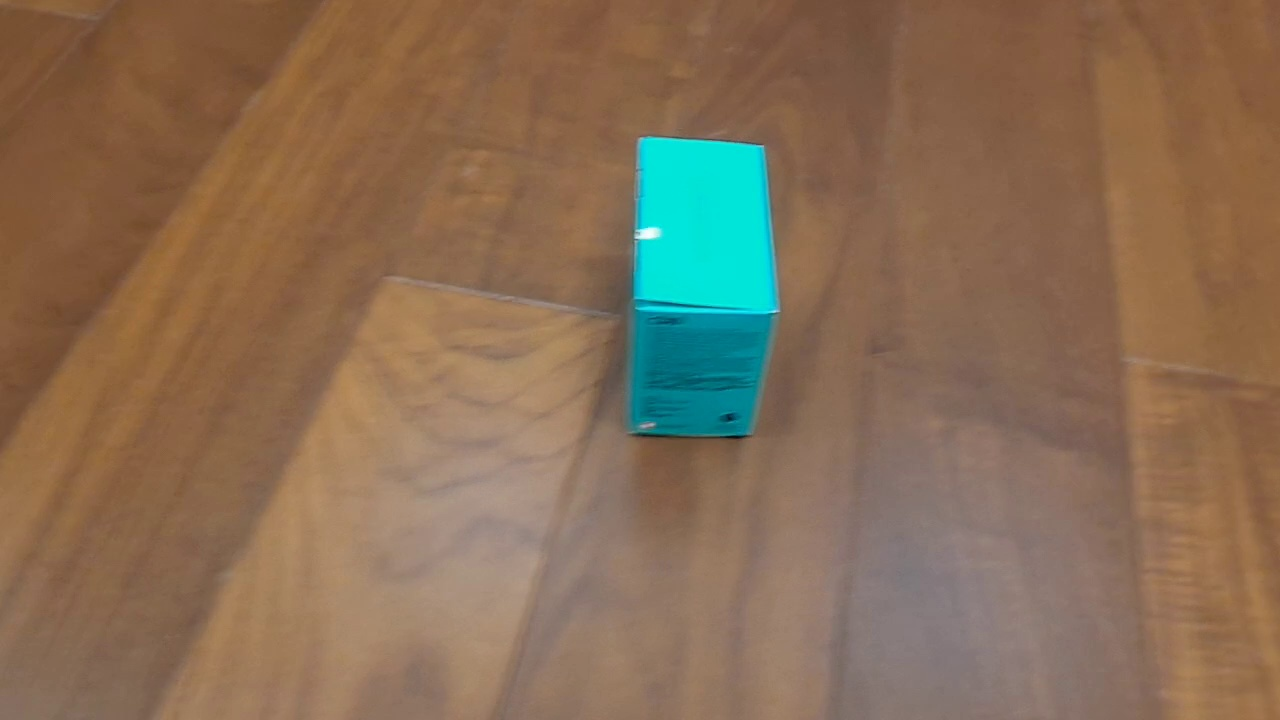webcam: (621, 133, 781, 440)
